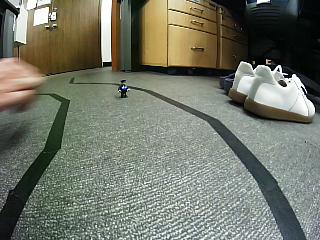person: (118, 79, 131, 98)
